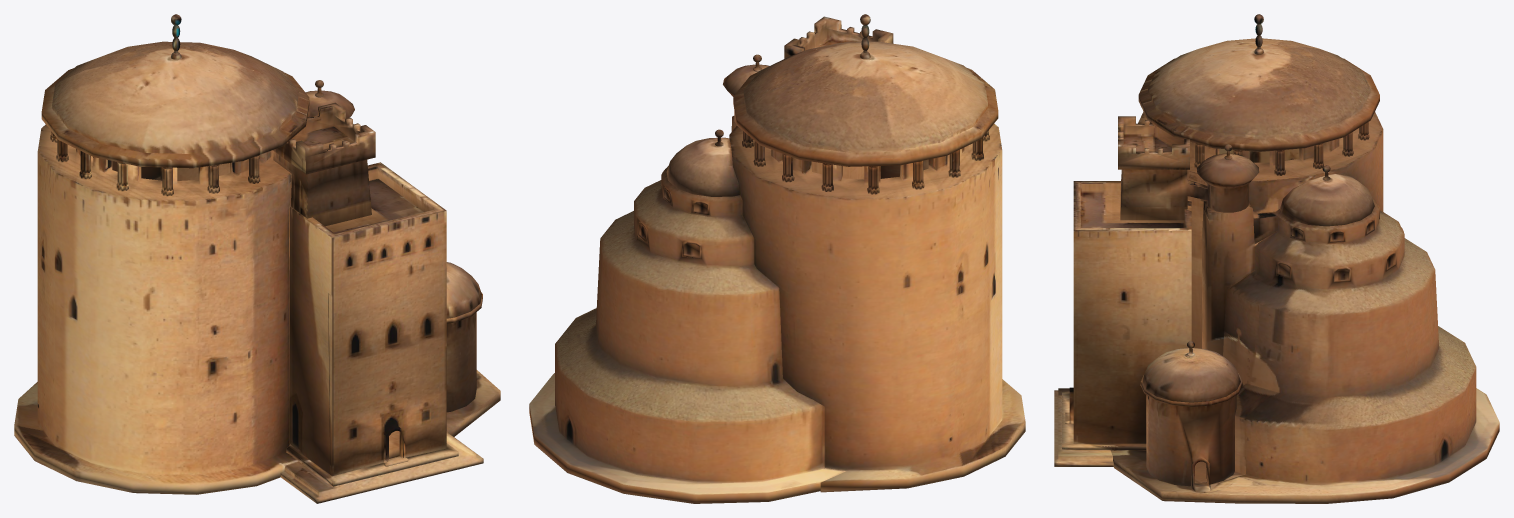
Rendered from Meshy_AI__1017075902_texture.fbx.
The picture shows the model from 3 angles, left to right: view 1: azimuth 30°, elevation 25°; view 2: azimuth 150°, elevation 25°; view 3: azimuth 270°, elevation 25°; orthographic projection. The views are drawn at different scales.
Visible parts, largest first — view 1: Mesh_0; view 2: Mesh_0; view 3: Mesh_0.
Part boxes in pixels (x1,y1,x2,y2): Mesh_0: (14, 14, 500, 503); Mesh_0: (529, 14, 1025, 503); Mesh_0: (1054, 14, 1499, 503).
Bounding box in the file's own units: 194 × 183 × 200.
Materials: 1 (1 with a texture image).
